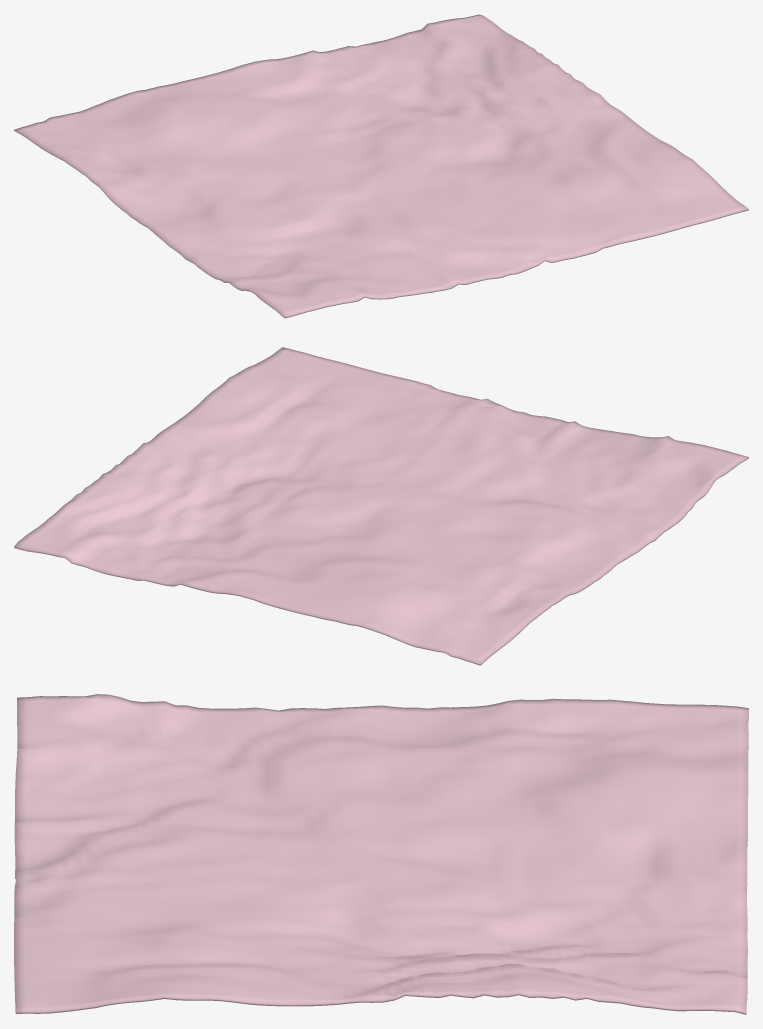
Rendered from plastic wrap.fbx.
3 renders of one model, top to bottom at view 1: azimuth 30°, elevation 25°; view 2: azimuth 150°, elevation 25°; view 3: azimuth 270°, elevation 25°, orthographic. The views are drawn at different scales.
Parts seen in each view (by area): view 1: plastic wrapp; view 2: plastic wrapp; view 3: plastic wrapp.
Boxes of the visible parts, x1=… form: plastic wrapp: x1=14, y1=14, x2=748, y2=318; plastic wrapp: x1=14, y1=347, x2=748, y2=665; plastic wrapp: x1=14, y1=694, x2=748, y2=1014.
Size of the model in its own units: 92.61 by 4.04 by 92.68.
